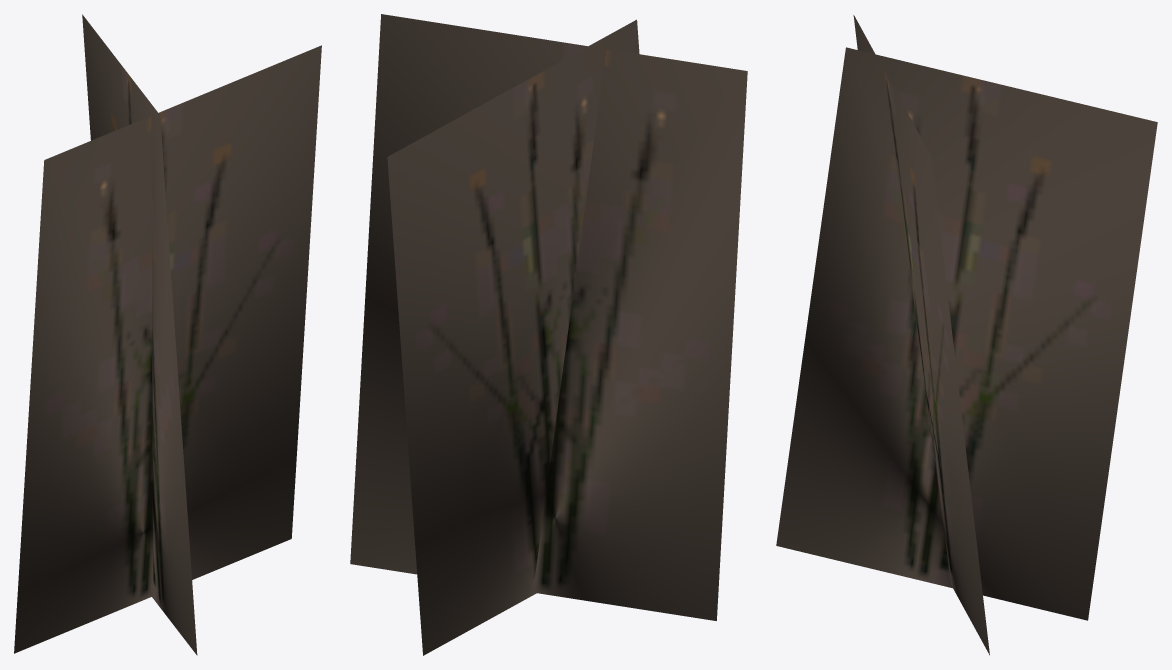
Rendered from swmp_shor_cattail_cluster_l2.fbx.
The picture shows the model from 3 angles, left to right: view 1: azimuth 30°, elevation 25°; view 2: azimuth 150°, elevation 25°; view 3: azimuth 270°, elevation 25°; orthographic projection. The views are drawn at different scales.
Parts seen in each view (by area): view 1: mesh_node; view 2: mesh_node; view 3: mesh_node.
Part boxes in pixels (x1,y1,x2,y2): mesh_node: [14, 14, 321, 655]; mesh_node: [350, 14, 747, 655]; mesh_node: [776, 15, 1157, 655].
Size of the model in its own units: 2.41 by 4 by 2.59.
Materials: 1 (1 with a texture image).
